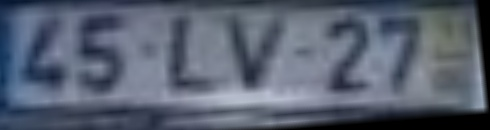2: (321, 15, 381, 101)
4: (15, 14, 78, 101)
5: (76, 11, 133, 100)
7: (381, 14, 431, 104)
L: (165, 13, 226, 103)
V: (223, 12, 301, 99)
